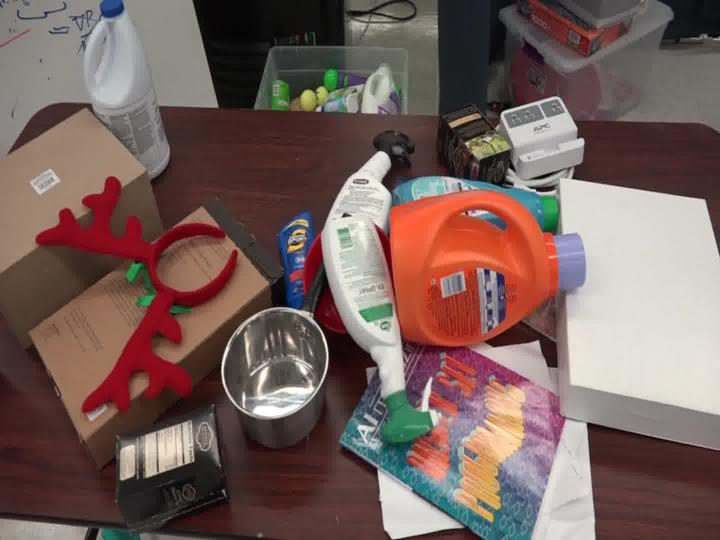downy: (369, 159, 566, 250)
